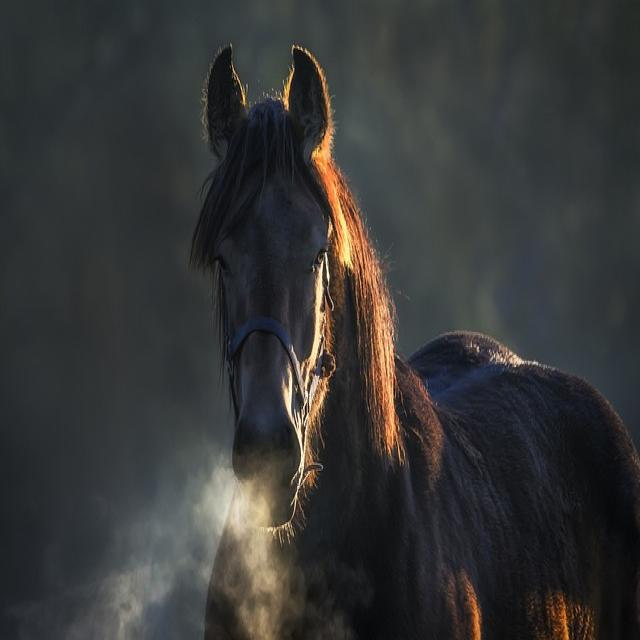Herbivorous: (189, 45, 640, 640)
